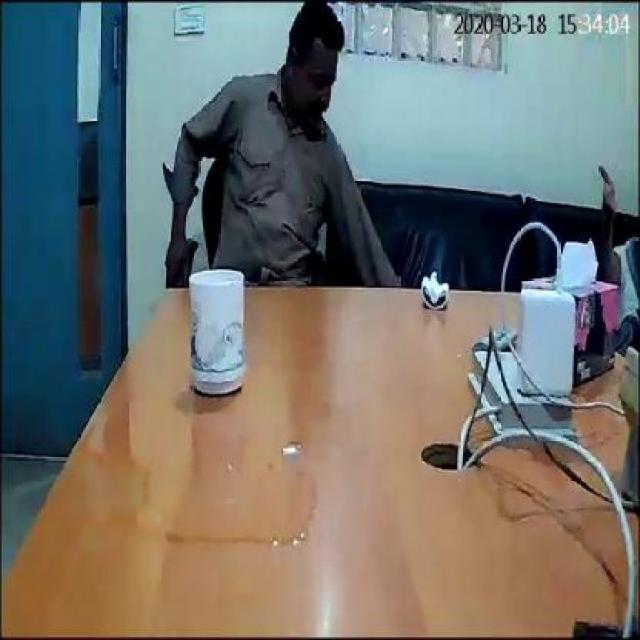spill: (86, 417, 326, 540)
